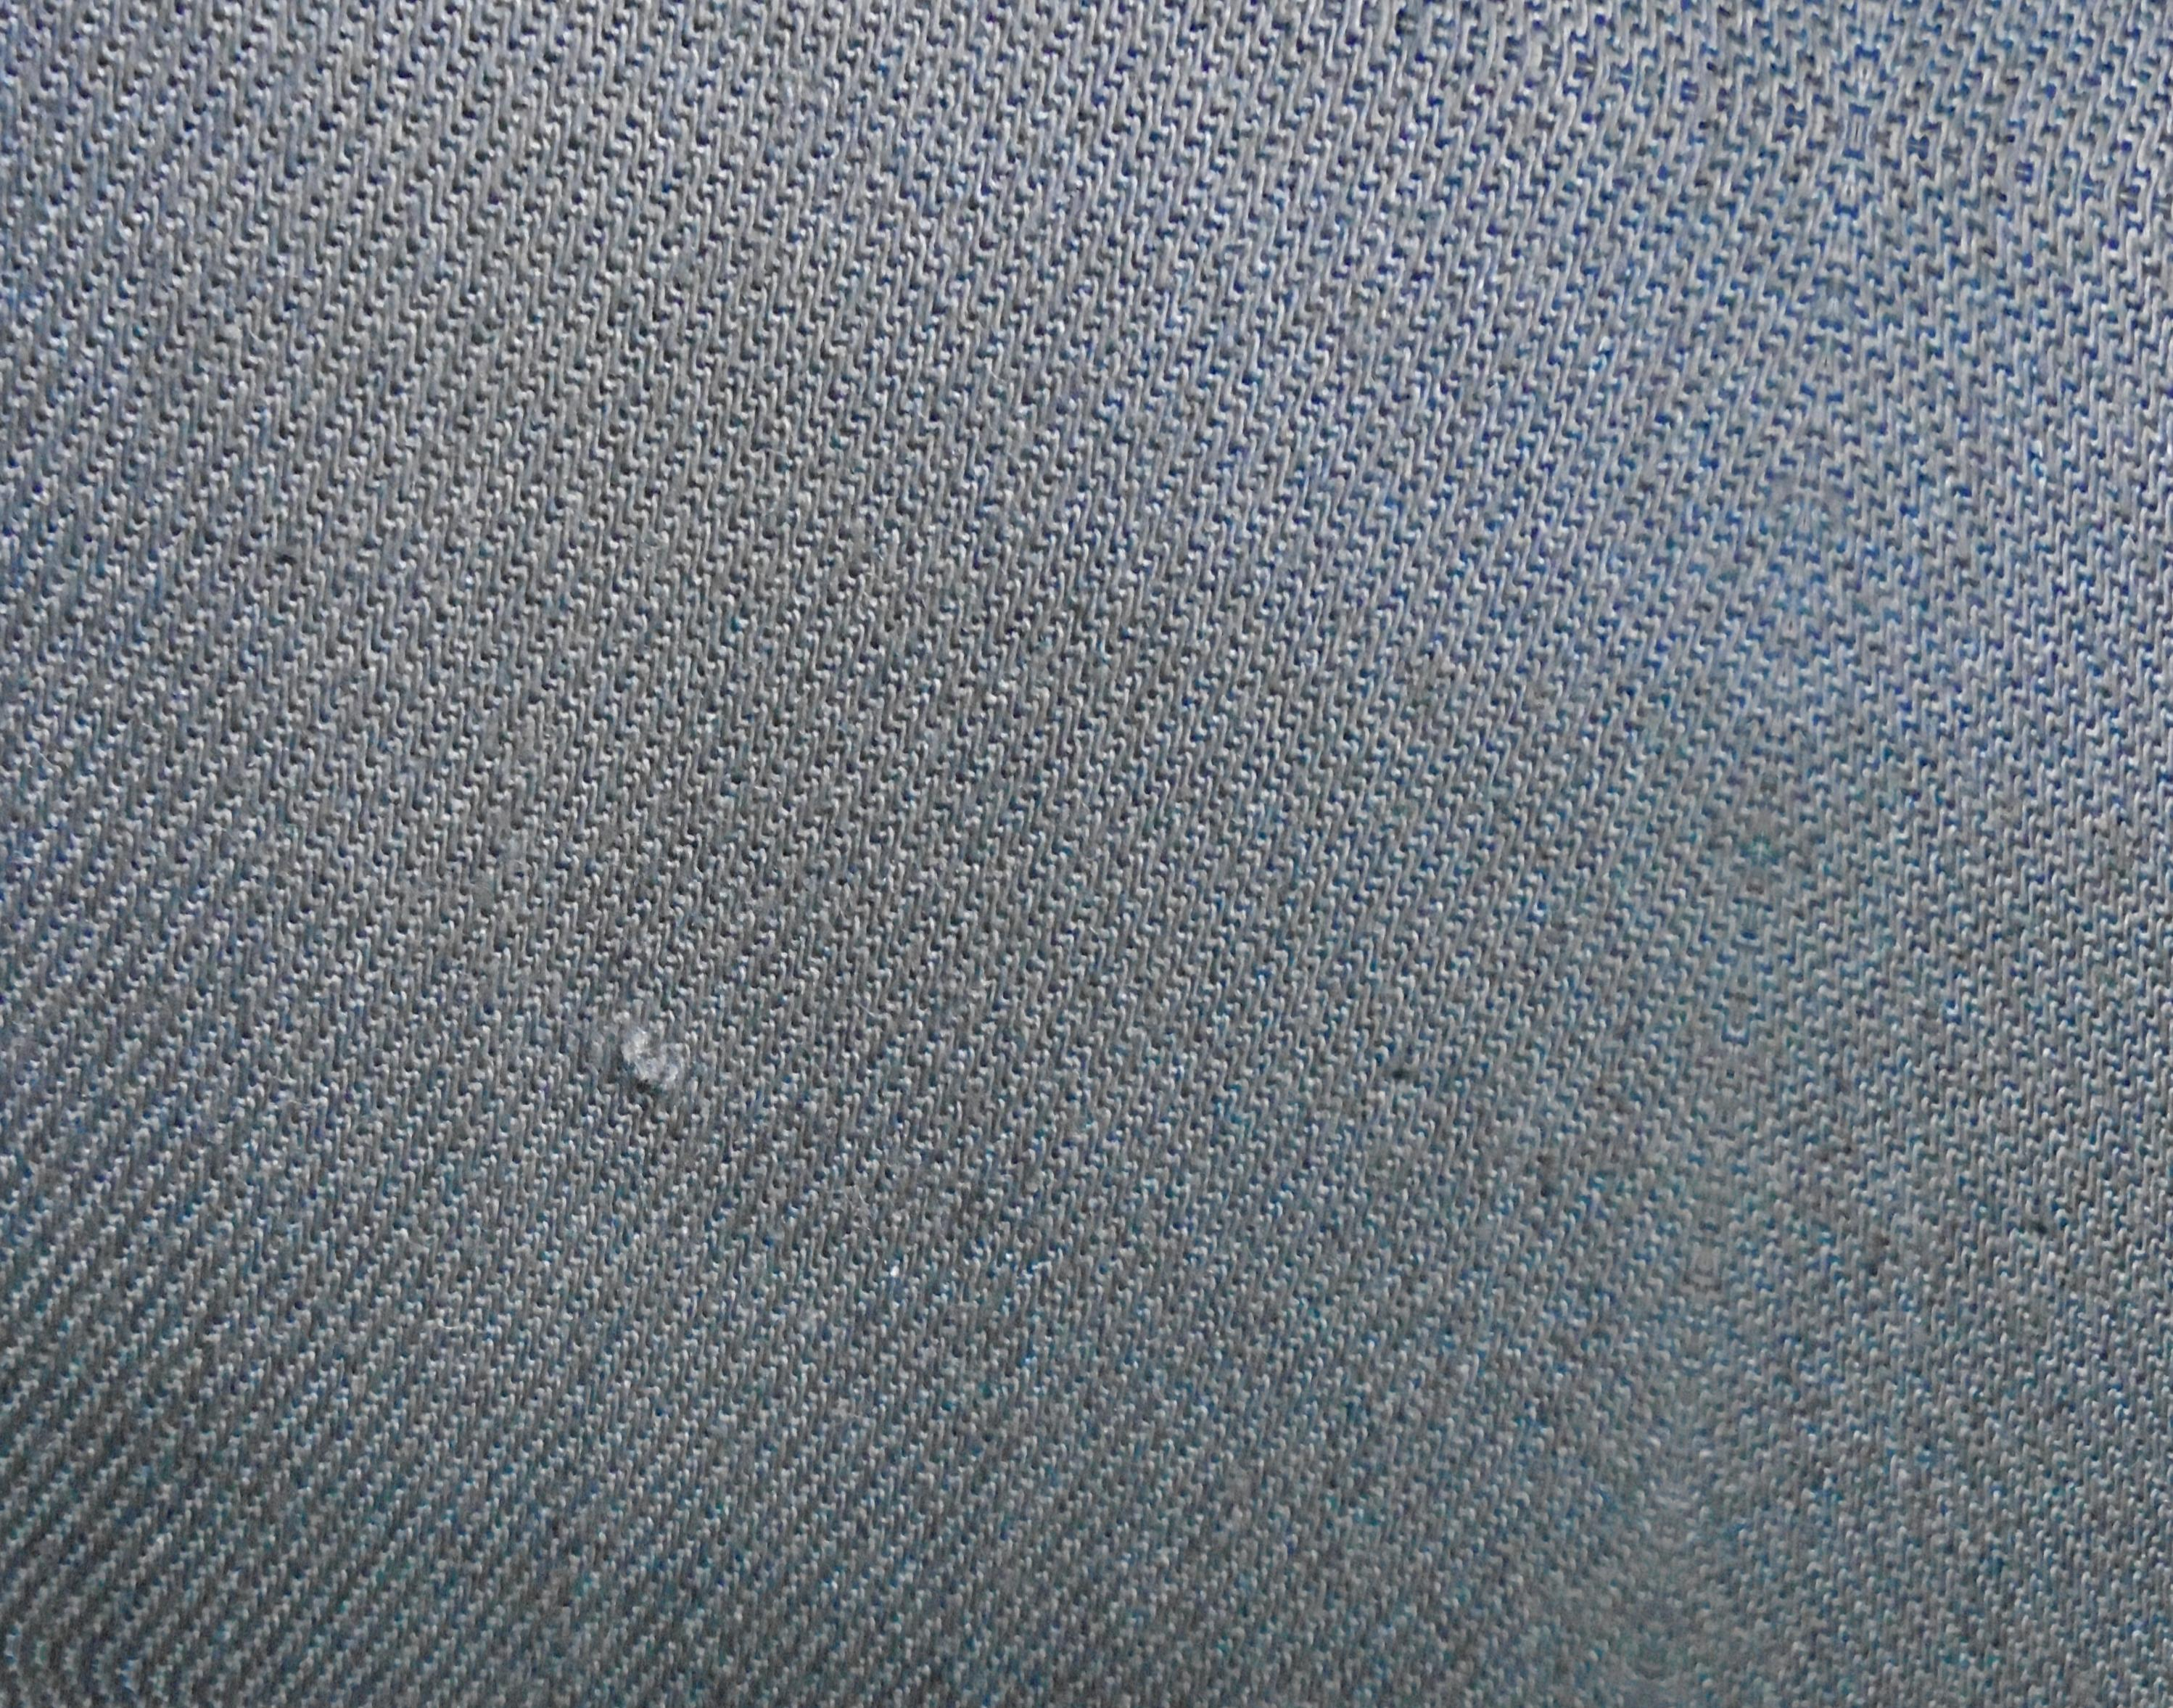knot: (589, 993, 716, 1124)
